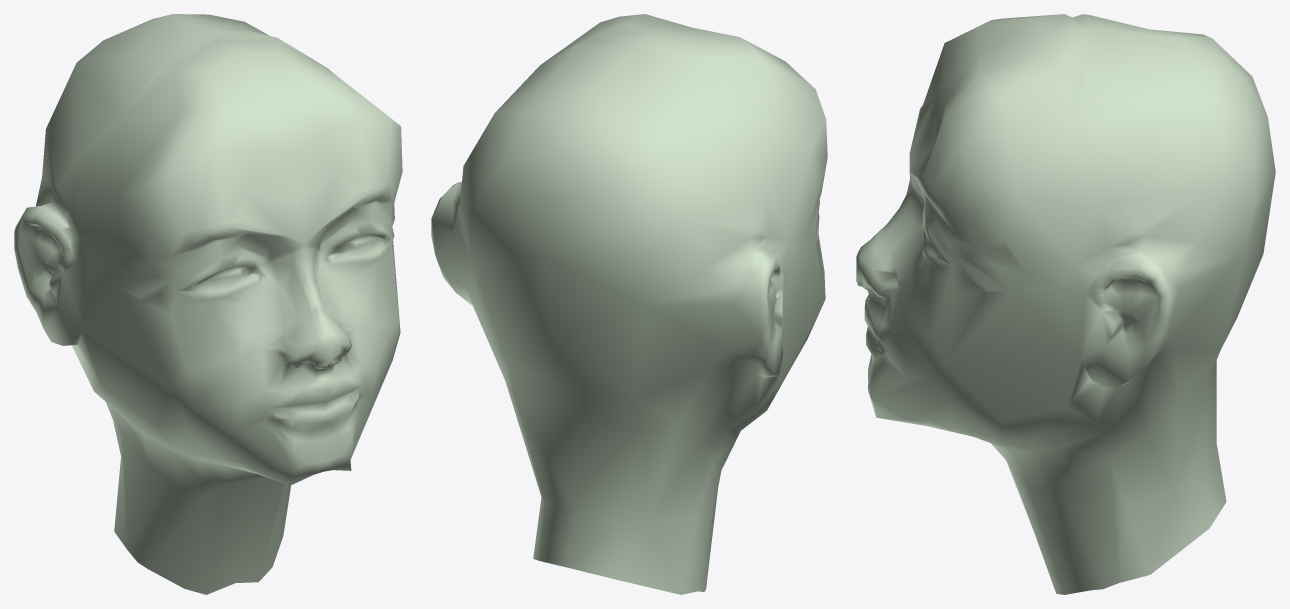
Rendered from head_liu_bang.dae.
3 views of the same model, side by side, from view 1: azimuth 30°, elevation 25°; view 2: azimuth 150°, elevation 25°; view 3: azimuth 270°, elevation 25° (orthographic). The views are drawn at different scales.
Parts seen in each view (by area): view 1: head_chinese; view 2: head_chinese; view 3: head_chinese.
Boxes of the visible parts, x1=… form: head_chinese: x1=14, y1=14, x2=402, y2=594; head_chinese: x1=431, y1=14, x2=827, y2=594; head_chinese: x1=856, y1=14, x2=1275, y2=594.
Bounding box in the file's own units: 0.5299 × 0.5717 × 0.8282.
